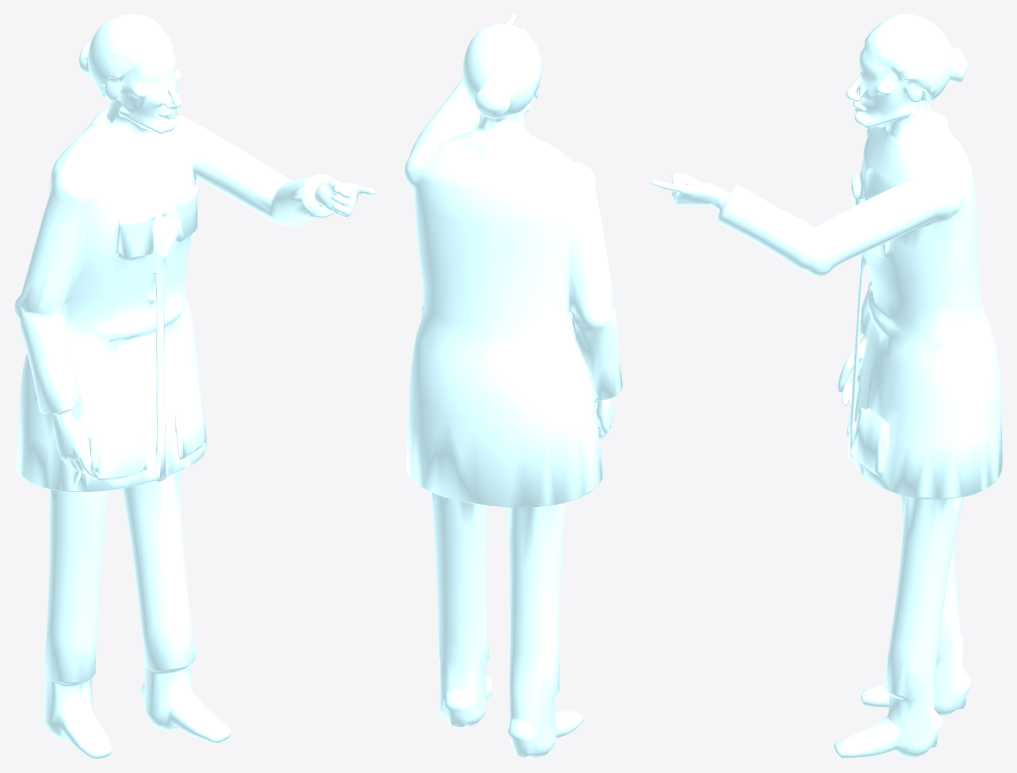
The model's file is echo_leyla_1998_lift.glb.
The picture shows the model from 3 angles, left to right: view 1: azimuth 30°, elevation 25°; view 2: azimuth 150°, elevation 25°; view 3: azimuth 270°, elevation 25°; orthographic projection. The views are drawn at different scales.
Visible parts, largest first — view 1: pose_lift; view 2: pose_lift; view 3: pose_lift.
Part boxes in pixels (box(x1,y1,x2,y2)): pose_lift: box(14, 14, 375, 758); pose_lift: box(404, 14, 622, 758); pose_lift: box(651, 14, 1002, 758).
Size of the model in its own units: 0.5876 by 1.68 by 0.7412.
